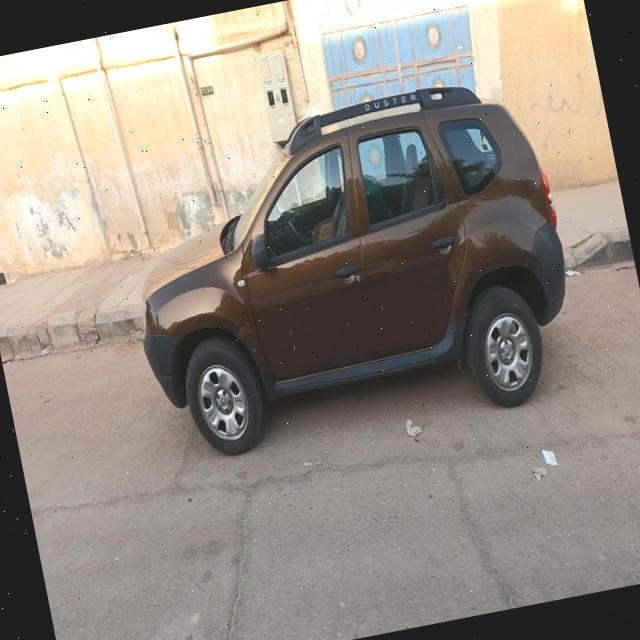Graffiti: (511, 66, 608, 136)
